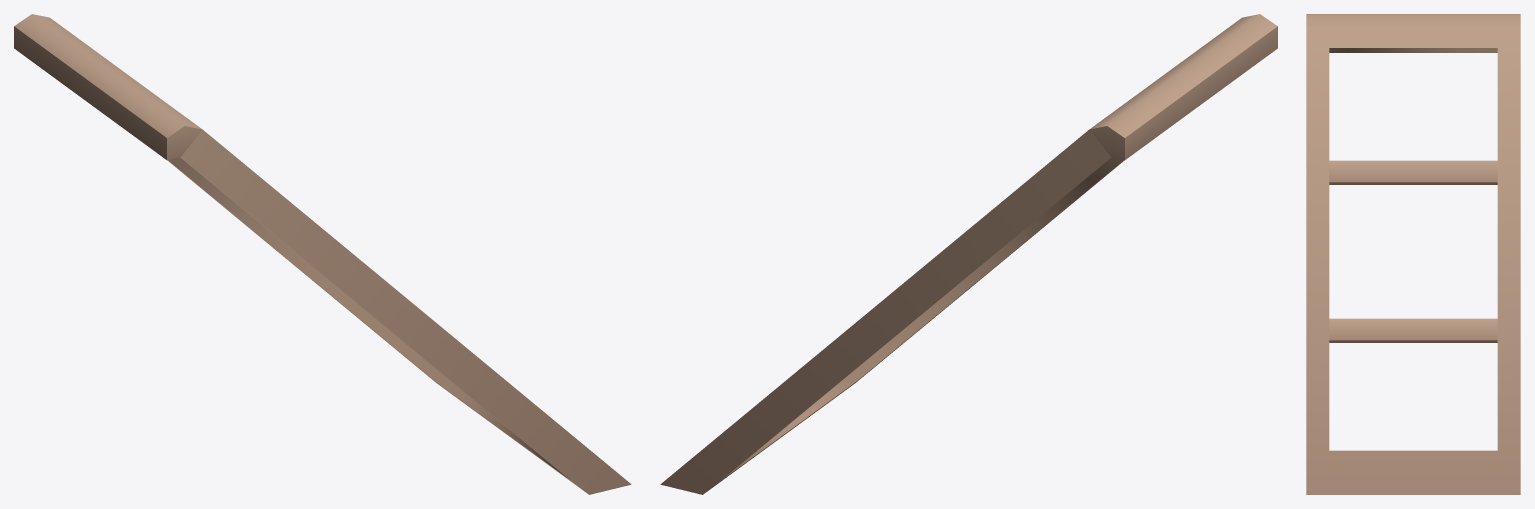
File: roof-window-double.glb
3 renders of one model, left to right at view 1: azimuth 30°, elevation 25°; view 2: azimuth 150°, elevation 25°; view 3: azimuth 270°, elevation 25°, orthographic. The views are drawn at different scales.
Parts seen in each view (by area): view 1: roof-window-double; view 2: roof-window-double; view 3: roof-window-double.
Boxes of the visible parts, <box> form: roof-window-double: <box>14,14,631,494</box>; roof-window-double: <box>660,14,1277,494</box>; roof-window-double: <box>1306,14,1520,494</box>.
Size of the model in its own units: 1.64 by 1.58 by 0.9333.
